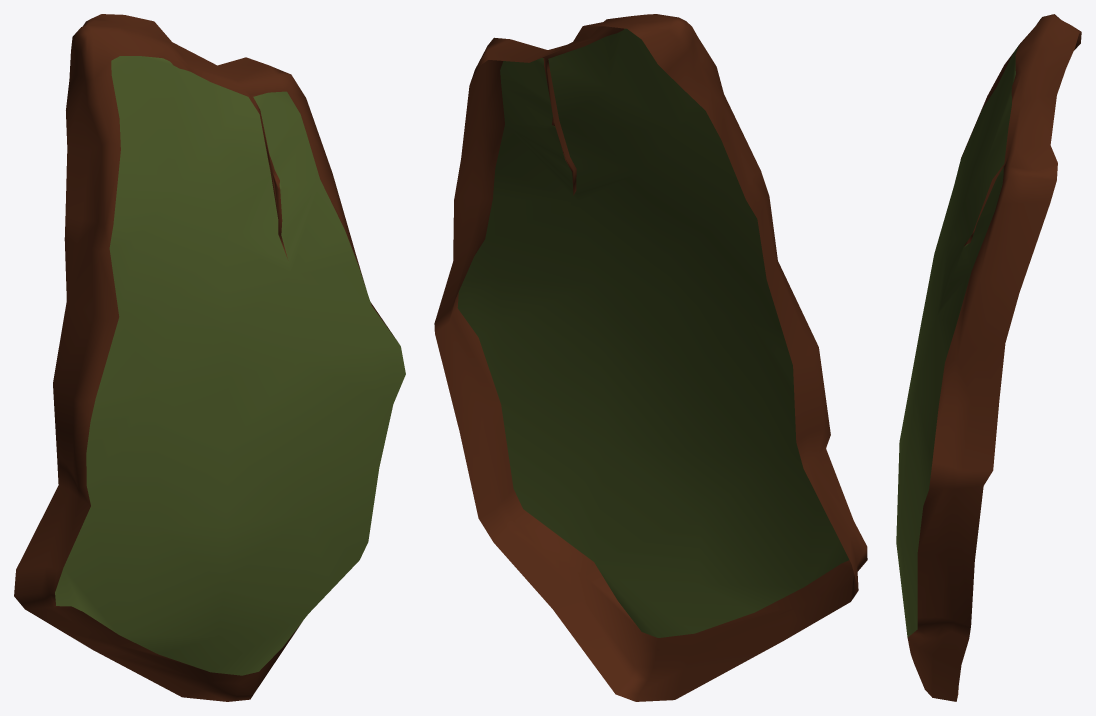
File: env_excavationsite_mountainpiece04.fbx
3 renders of one model, left to right at view 1: azimuth 30°, elevation 25°; view 2: azimuth 150°, elevation 25°; view 3: azimuth 270°, elevation 25°, orthographic. The views are drawn at different scales.
Parts seen in each view (by area): view 1: geo_excavation_mountainpiece04.006; view 2: geo_excavation_mountainpiece04.006; view 3: geo_excavation_mountainpiece04.006.
Part boxes in pixels (x1,y1,x2,y2): geo_excavation_mountainpiece04.006: (14, 14, 405, 701); geo_excavation_mountainpiece04.006: (434, 14, 867, 701); geo_excavation_mountainpiece04.006: (896, 14, 1081, 701).
Size of the model in its own units: 426 by 719 by 189.
